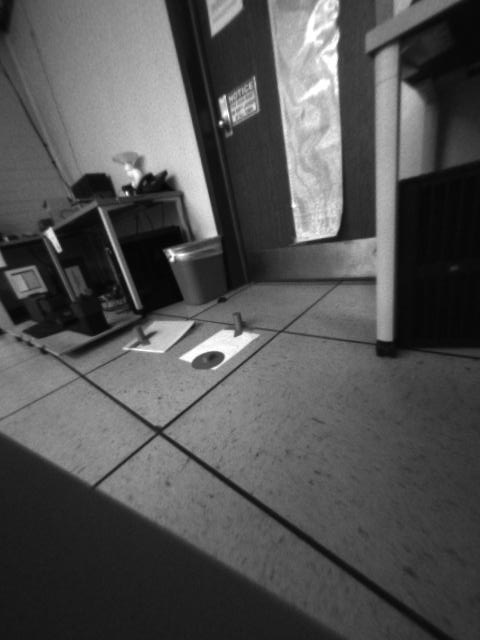X: (222, 311, 256, 336), (130, 326, 153, 345)
